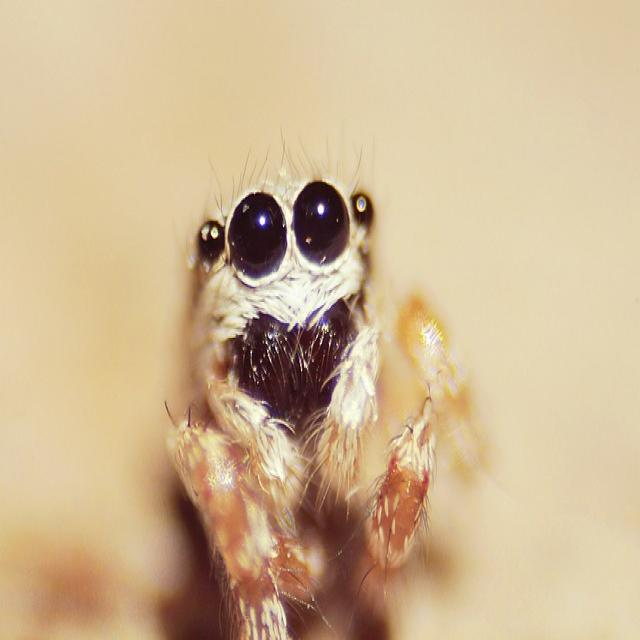spyder: (166, 135, 463, 640)
